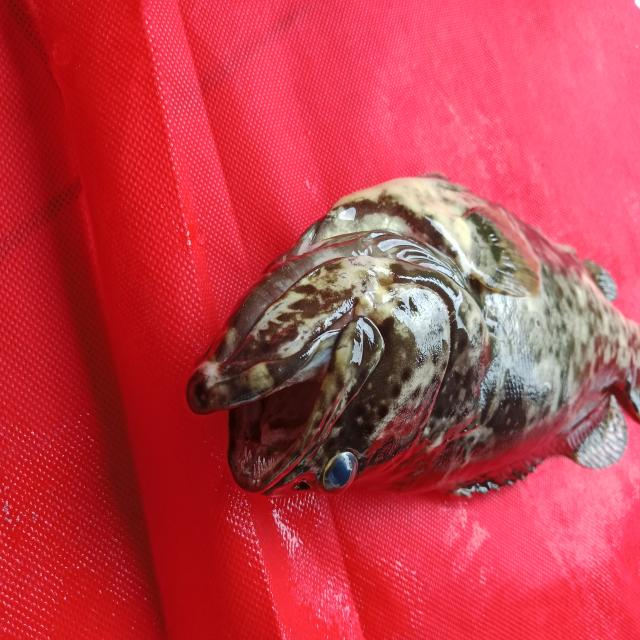ikan: (149, 148, 624, 516)
